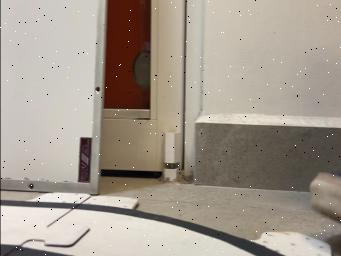street: (0, 201, 284, 256), (0, 201, 284, 256), (0, 201, 284, 256), (0, 201, 284, 256), (0, 201, 284, 256), (0, 201, 284, 256)
